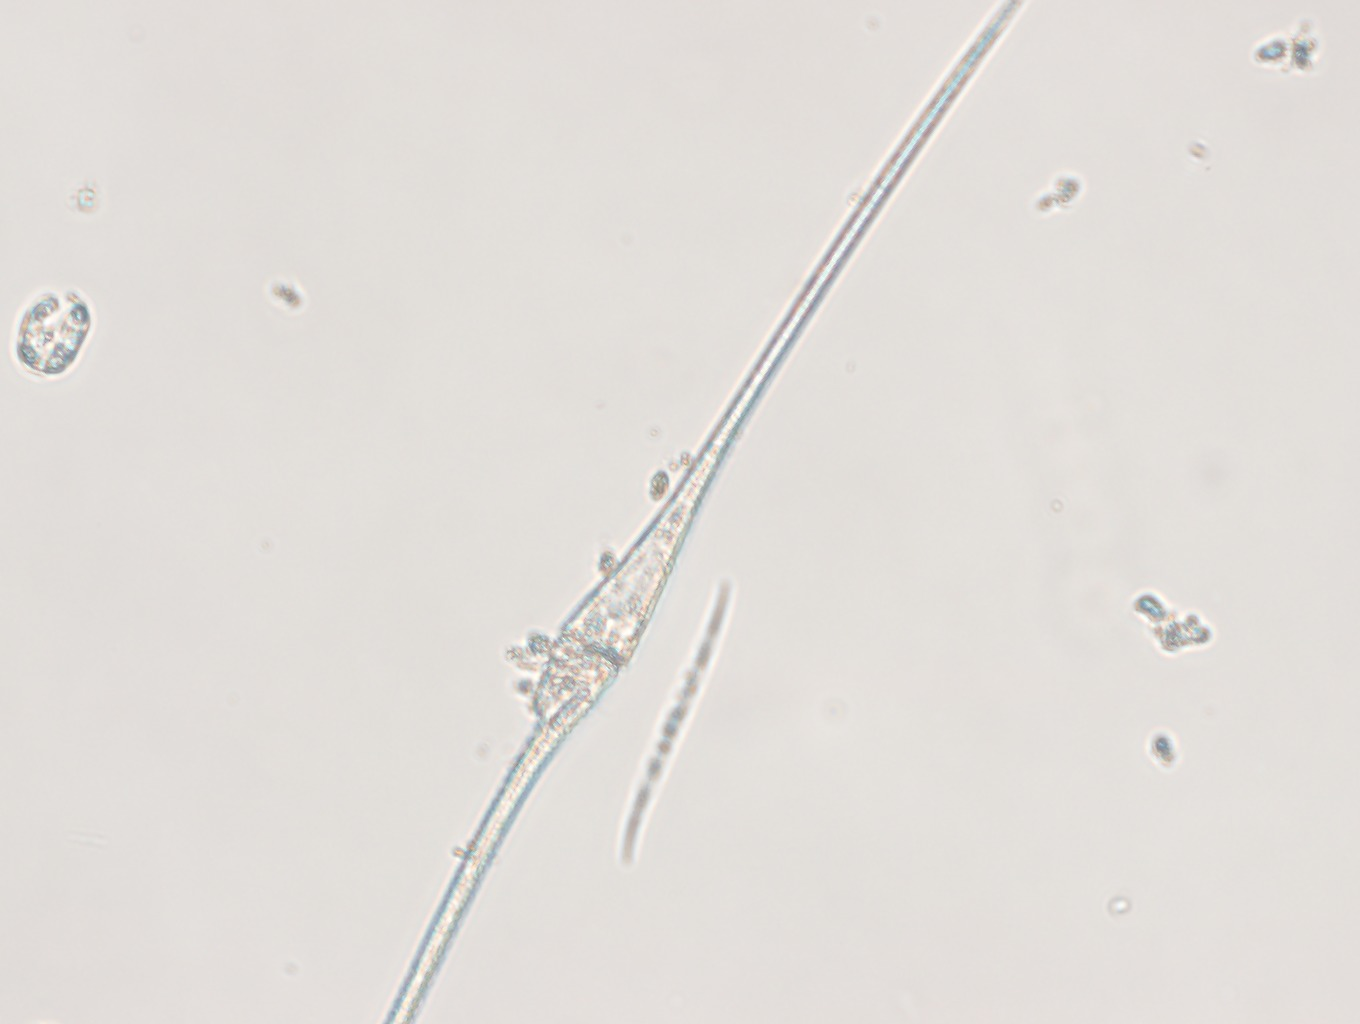ceratium fusus: (347, 1, 1031, 1024)
pleurosigma pelagicum: (616, 581, 750, 885)
